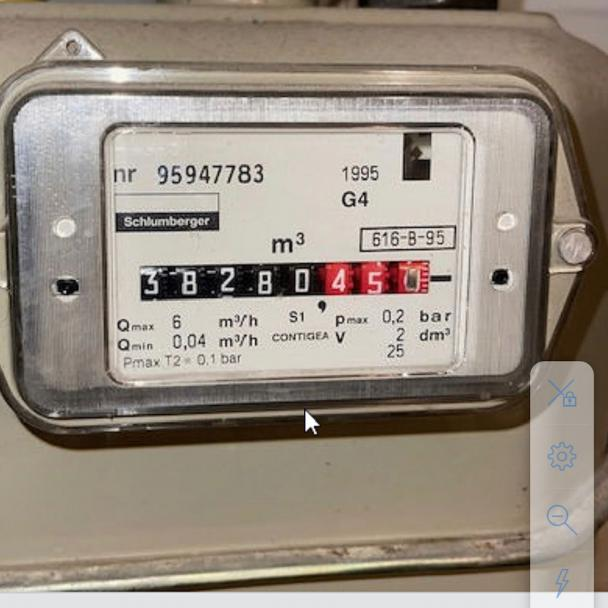0: (282, 266, 319, 294), (395, 263, 430, 291)
2: (213, 266, 242, 296)
3: (141, 268, 168, 298)
4: (330, 264, 350, 295)
5: (358, 265, 388, 294)
8: (173, 266, 207, 297), (250, 266, 278, 297)
cm: (326, 262, 432, 294)
counter: (138, 264, 325, 298)
